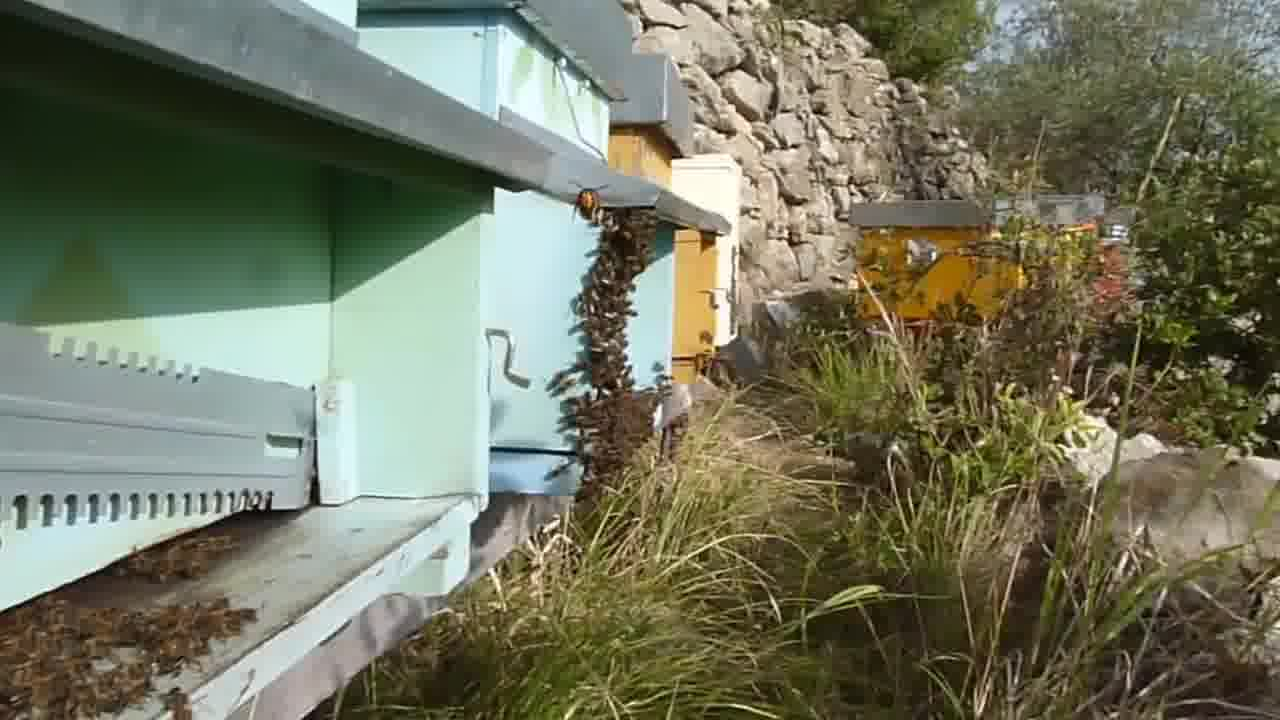bee: (1, 608, 181, 718), (562, 399, 657, 469), (575, 261, 636, 351), (594, 218, 663, 283), (136, 535, 234, 576), (172, 597, 257, 642), (557, 352, 640, 392)
hornet: (560, 177, 611, 224)
